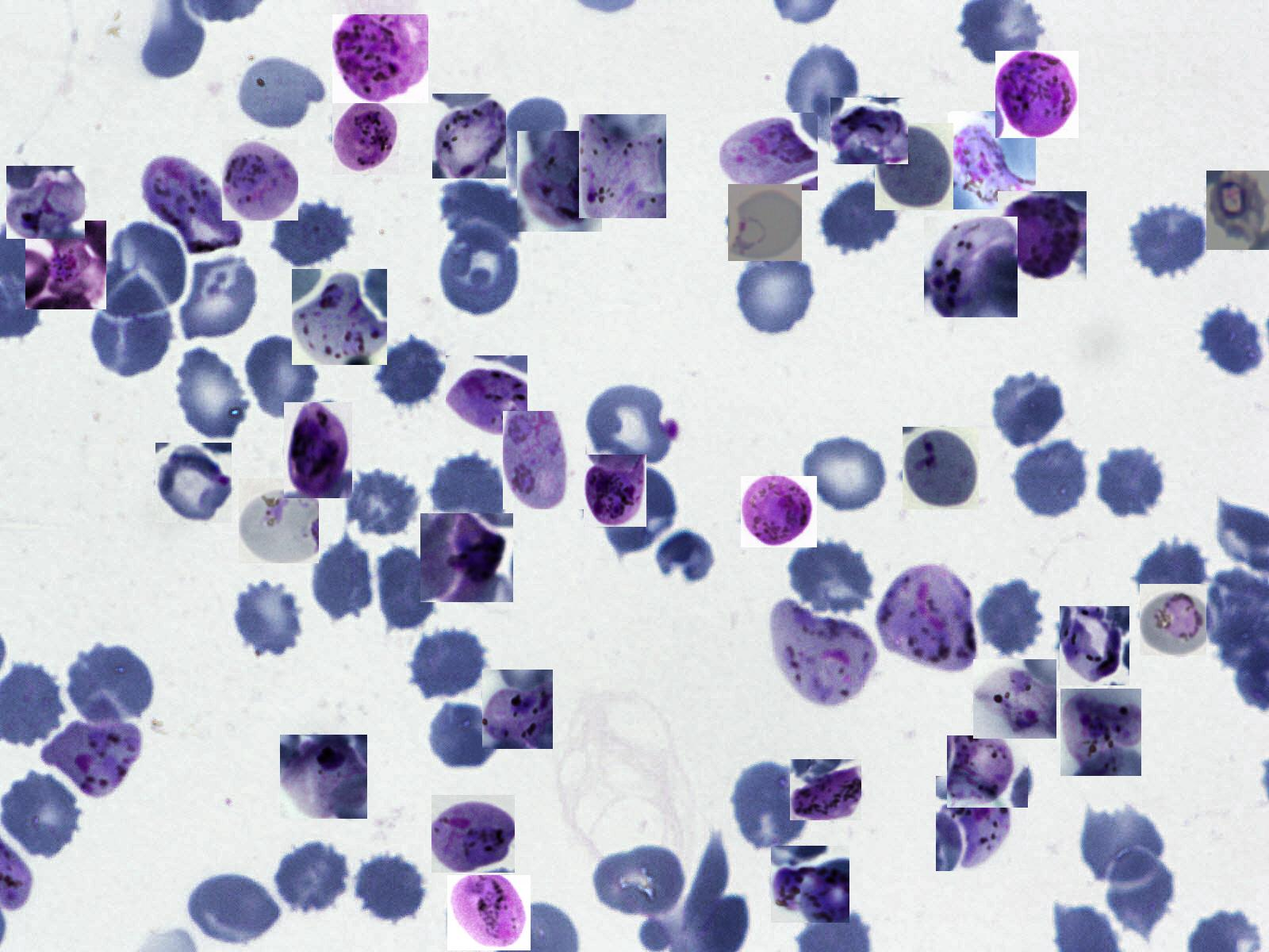Infected: (771, 604, 873, 707), (876, 564, 972, 670), (924, 217, 1018, 317), (292, 269, 387, 365), (579, 114, 666, 218), (140, 155, 232, 250), (948, 111, 1036, 209), (517, 131, 602, 232), (936, 776, 1026, 871), (332, 14, 428, 103), (420, 513, 513, 602), (998, 191, 1087, 282), (503, 411, 585, 509), (42, 720, 142, 797), (719, 113, 818, 190), (280, 735, 367, 819), (995, 51, 1079, 138), (25, 221, 106, 309), (1060, 689, 1141, 776), (239, 478, 319, 563), (875, 123, 953, 210), (973, 659, 1056, 739), (446, 355, 527, 436), (431, 795, 515, 873), (284, 402, 352, 498), (447, 875, 531, 950), (903, 427, 979, 509), (432, 94, 506, 178), (222, 140, 298, 221), (156, 443, 232, 523), (771, 846, 849, 923), (947, 735, 1028, 808), (729, 184, 803, 261), (7, 166, 85, 239), (482, 670, 553, 749), (1060, 606, 1129, 685), (742, 476, 817, 547), (830, 98, 908, 164), (332, 100, 399, 175), (1206, 171, 1269, 250), (1140, 584, 1206, 655), (584, 455, 646, 527), (790, 759, 861, 820)
Uninfected: (98, 217, 191, 322), (585, 379, 680, 469), (182, 866, 287, 945), (93, 278, 174, 380), (437, 221, 523, 317), (67, 640, 158, 730), (783, 40, 864, 139), (783, 536, 876, 620), (599, 460, 680, 554), (730, 760, 809, 856), (592, 843, 688, 922), (235, 52, 326, 134), (735, 251, 818, 339), (1079, 803, 1165, 887), (1103, 844, 1179, 939), (803, 432, 891, 514), (178, 254, 259, 342), (243, 332, 320, 423), (174, 346, 251, 437), (439, 180, 530, 253), (1014, 437, 1092, 521), (990, 367, 1068, 451), (270, 195, 354, 273), (271, 839, 352, 918), (499, 95, 570, 184), (822, 177, 903, 255), (232, 575, 307, 659), (311, 534, 379, 626), (1130, 202, 1212, 278), (430, 453, 516, 524), (374, 543, 440, 635), (372, 334, 452, 409), (976, 578, 1049, 660), (408, 626, 488, 700), (342, 464, 420, 538), (356, 851, 428, 927), (1136, 539, 1206, 617), (1097, 444, 1168, 520), (1200, 301, 1266, 380), (429, 700, 499, 771)
